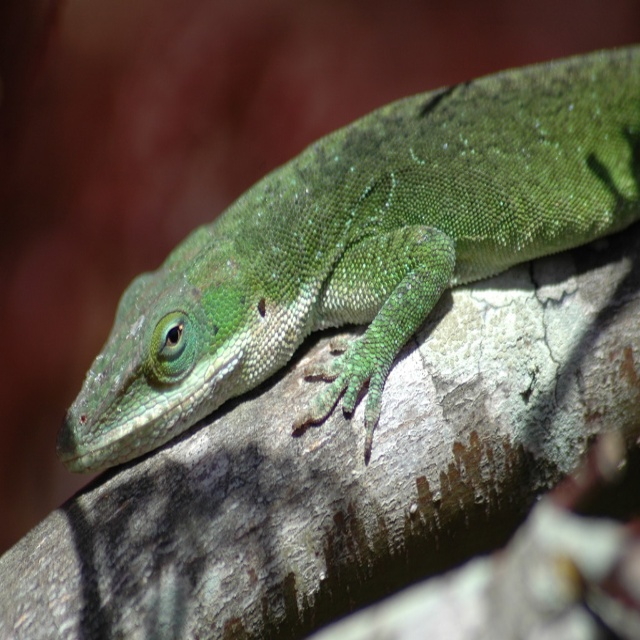Lizard: (58, 45, 636, 457)
